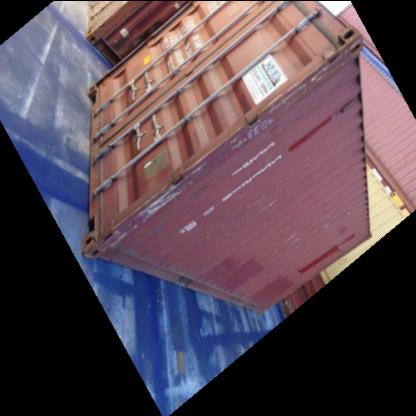Damage: (286, 54, 356, 80), (154, 164, 184, 223), (256, 83, 296, 113), (113, 217, 136, 253), (258, 191, 282, 215), (316, 218, 334, 242), (291, 221, 302, 252), (348, 202, 354, 230)
